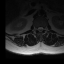CCS_normal: (39, 25, 41, 33)
LFS_normal: (43, 26, 45, 31)
LLS_normal: (41, 25, 43, 32)
RFS_normal: (36, 25, 38, 32)
RLS_normal: (38, 25, 39, 32)
